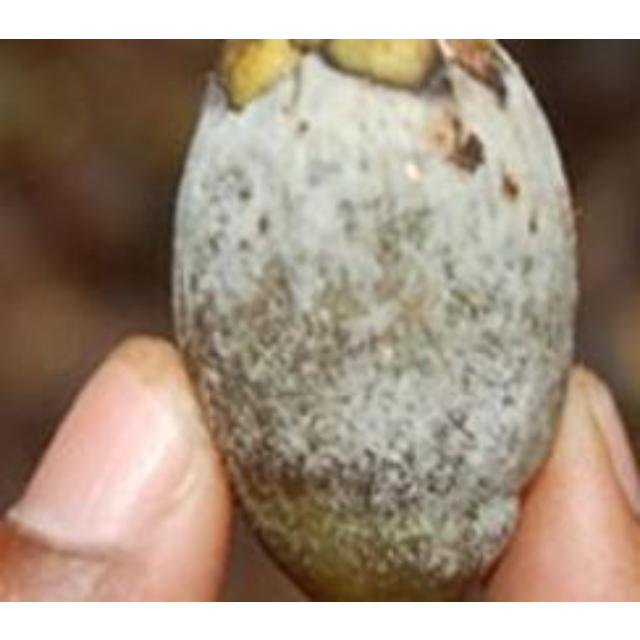damaged: (170, 38, 577, 599)
